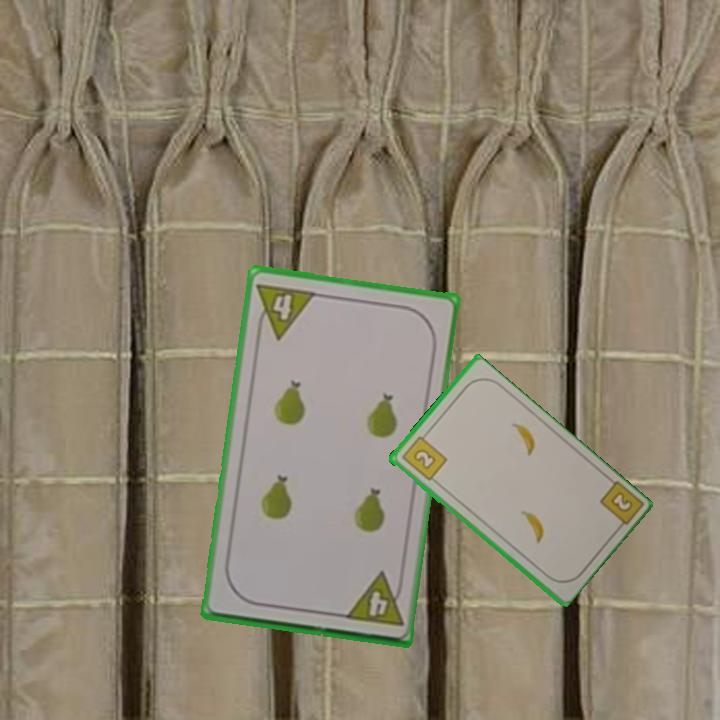2b: (595, 477, 644, 535), (398, 429, 449, 484)
4p: (252, 279, 319, 342), (341, 569, 406, 629)
